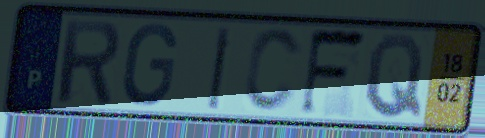C: (240, 25, 305, 116)
F: (296, 26, 370, 120)
G: (119, 21, 180, 109)
I: (204, 23, 235, 112)
Q: (363, 31, 426, 121)
R: (55, 16, 123, 106)
